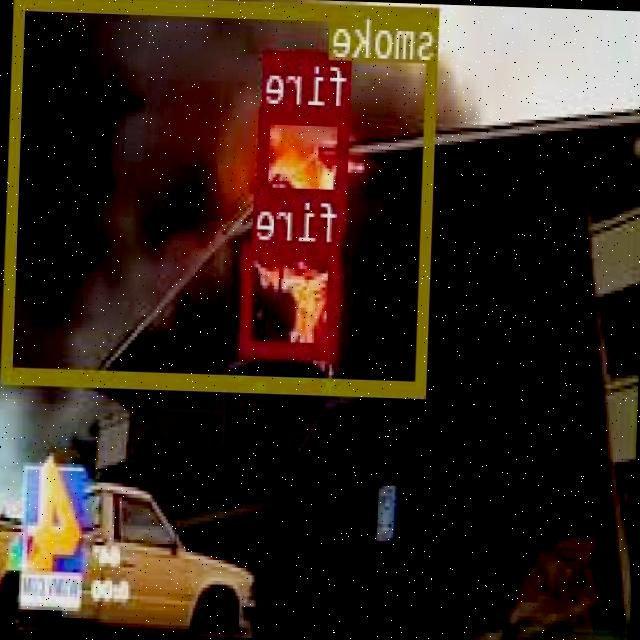fire: (242, 240, 342, 356), (258, 106, 352, 227)
smoke: (5, 0, 441, 393)
